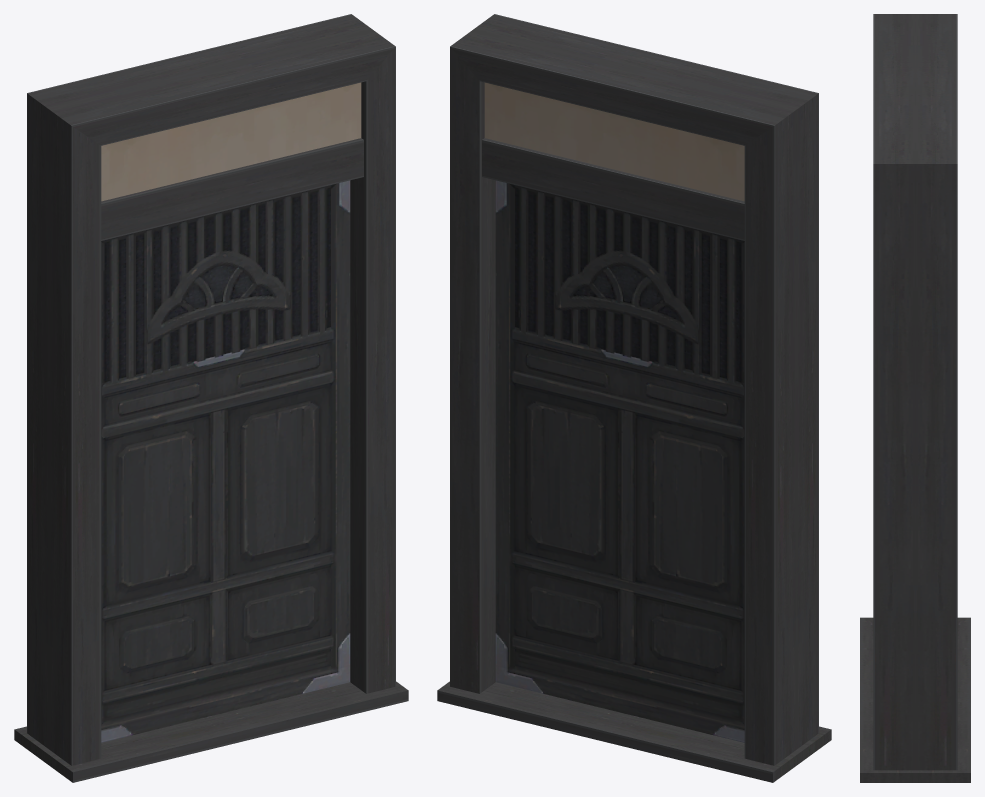
Rendered from Homeworld_Interior_Dq_Room_Door_01_Vo.fbx.
3 renders of one model, left to right at view 1: azimuth 30°, elevation 25°; view 2: azimuth 150°, elevation 25°; view 3: azimuth 270°, elevation 25°, orthographic. The views are drawn at different scales.
Parts seen in each view (by area): view 1: Homeworld_Interior_Dq_Room_Door_01_01_Vo, Homeworld_Interior_Dq_Room_Door_01_02_Vo; view 2: Homeworld_Interior_Dq_Room_Door_01_01_Vo, Homeworld_Interior_Dq_Room_Door_01_02_Vo; view 3: Homeworld_Interior_Dq_Room_Door_01_01_Vo.
Part boxes in pixels (bbox=[...]): Homeworld_Interior_Dq_Room_Door_01_01_Vo: bbox=[14, 14, 408, 782]; Homeworld_Interior_Dq_Room_Door_01_02_Vo: bbox=[101, 180, 350, 742]; Homeworld_Interior_Dq_Room_Door_01_01_Vo: bbox=[437, 14, 831, 782]; Homeworld_Interior_Dq_Room_Door_01_02_Vo: bbox=[495, 180, 744, 742]; Homeworld_Interior_Dq_Room_Door_01_01_Vo: bbox=[860, 14, 970, 782].
Bounding box in the file's own units: 2.17 × 4.02 × 0.6559.
